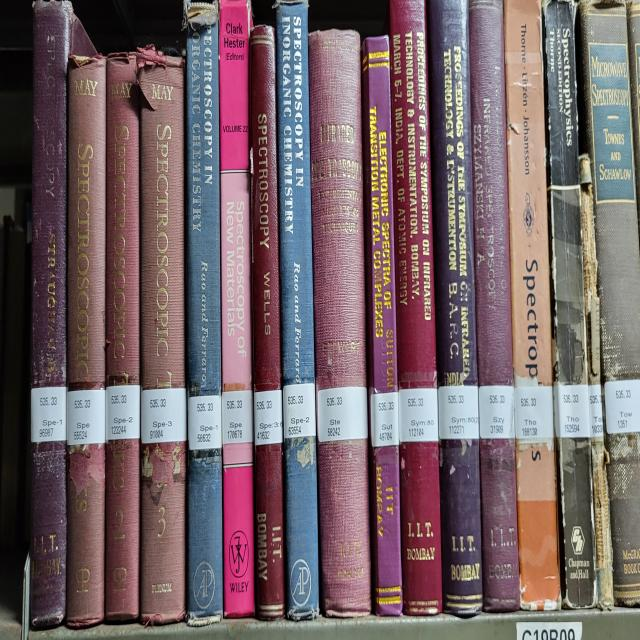Book: (579, 0, 640, 606), (309, 30, 371, 617), (504, 0, 561, 609), (428, 0, 482, 614), (390, 0, 442, 614), (469, 0, 520, 611), (545, 3, 596, 606), (138, 49, 186, 625), (30, 0, 72, 628), (362, 38, 402, 614), (66, 54, 106, 628), (186, 5, 222, 622), (220, 0, 255, 617), (105, 54, 140, 620), (580, 154, 614, 609), (278, 0, 315, 384), (250, 27, 281, 390), (600, 398, 602, 419)
Label: (318, 387, 368, 444), (141, 387, 186, 444), (66, 387, 106, 446), (399, 387, 439, 444), (514, 384, 554, 441), (438, 384, 479, 438), (554, 381, 590, 438), (31, 387, 66, 444), (479, 384, 515, 438), (604, 379, 640, 433), (106, 384, 140, 441), (282, 381, 316, 438), (188, 395, 221, 449), (222, 390, 252, 444), (254, 390, 282, 446), (370, 392, 399, 446), (589, 384, 604, 438)
